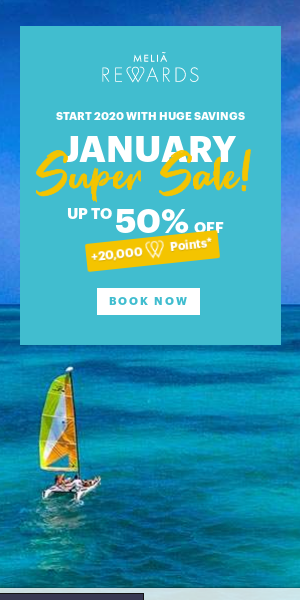fake_button: (82, 277, 211, 328)
